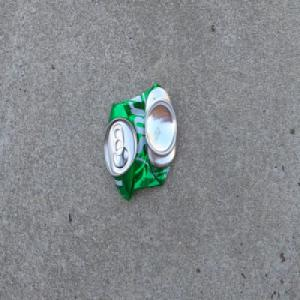SodaCan: (102, 81, 177, 201)
